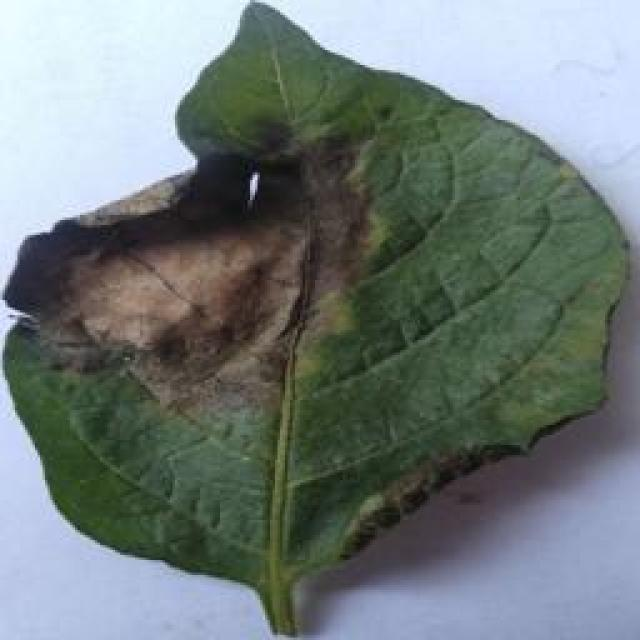Potato_Late_Blight: (0, 12, 625, 638)
